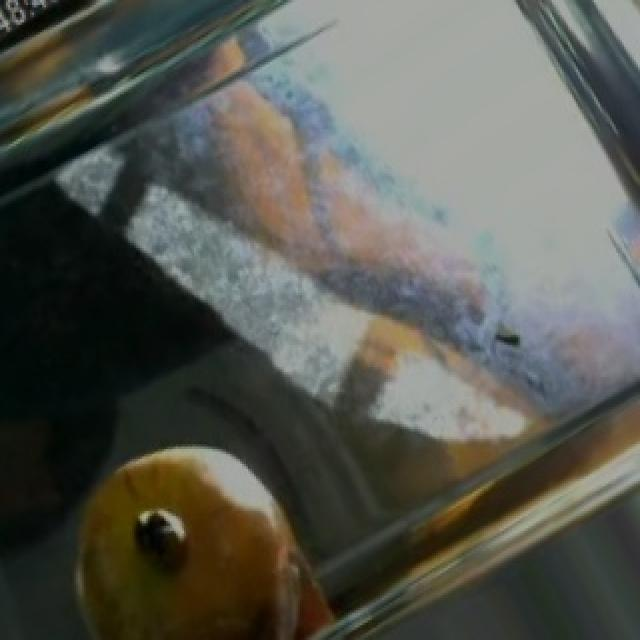fruit: (50, 422, 328, 638)
